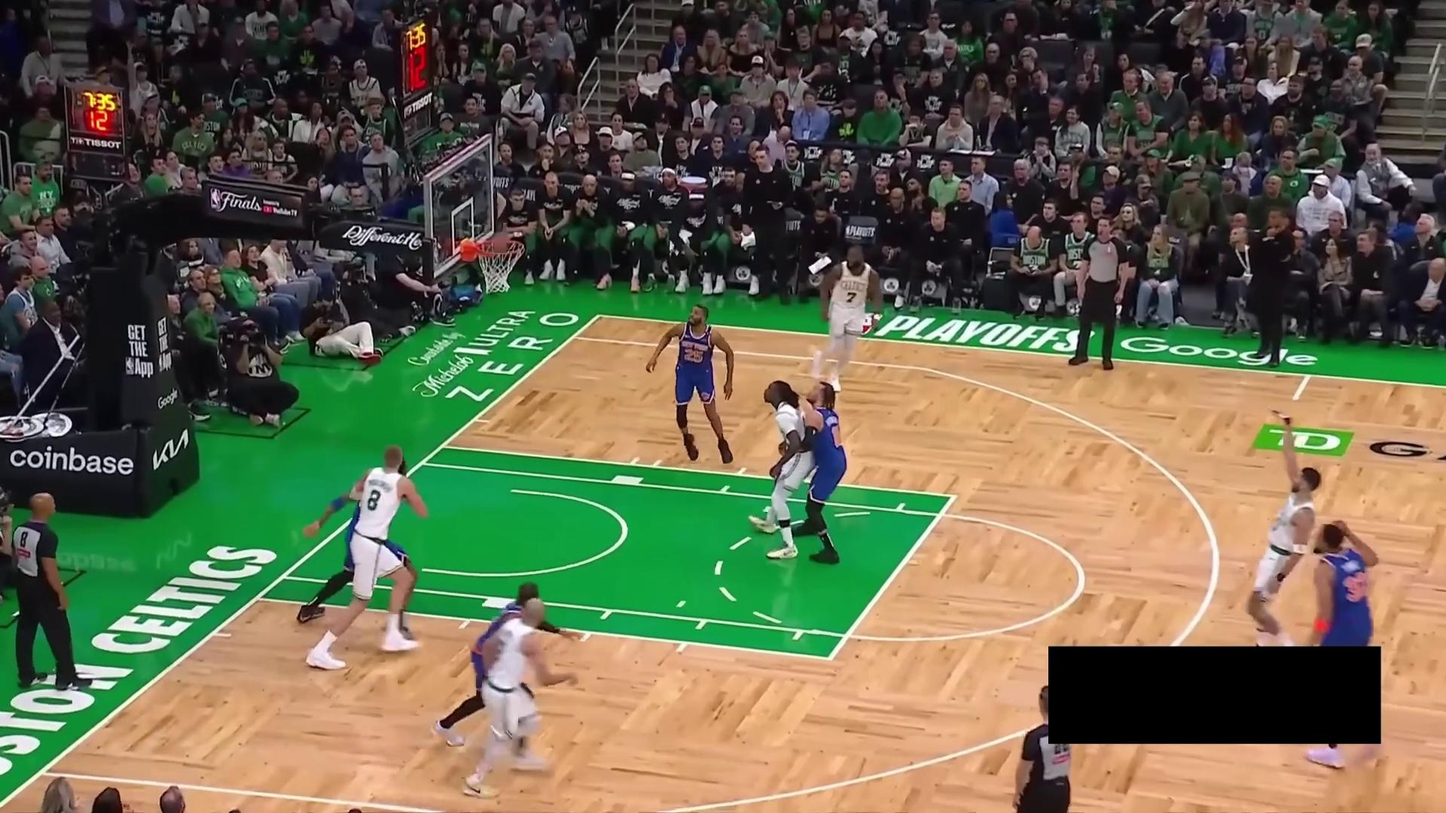ball: (481, 232, 515, 258)
ball-in-basket: (475, 232, 526, 294)
number: (1344, 571, 1370, 603), (684, 347, 704, 364), (367, 489, 381, 511), (831, 425, 843, 448), (845, 290, 858, 305)
player: (431, 581, 586, 772), (307, 445, 428, 670), (461, 597, 580, 800), (295, 458, 419, 642), (1302, 518, 1388, 772), (1243, 413, 1323, 646), (645, 302, 736, 466), (746, 379, 816, 562), (809, 241, 885, 394), (790, 381, 848, 566)
referee: (7, 492, 93, 690), (1067, 214, 1133, 371), (1008, 683, 1075, 813)
rim: (475, 238, 526, 257)
